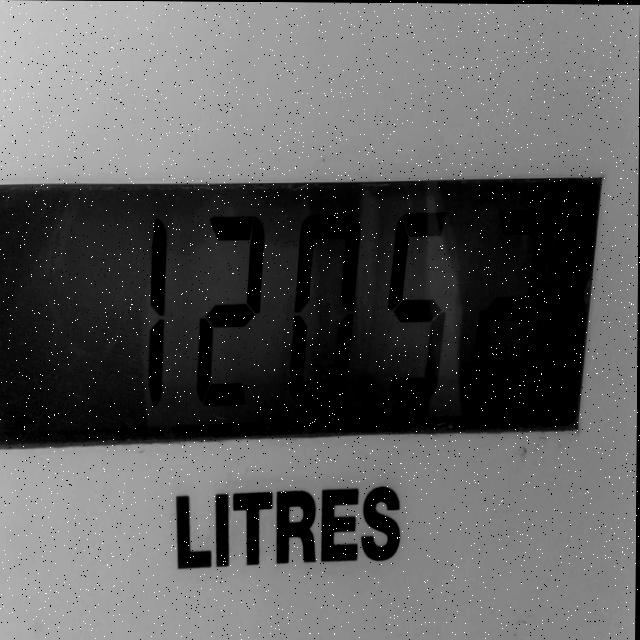.: (355, 361, 379, 419)
0: (277, 205, 358, 399)
1: (136, 218, 177, 418)
2: (470, 200, 552, 409), (189, 211, 272, 415)
5: (379, 208, 454, 411)
